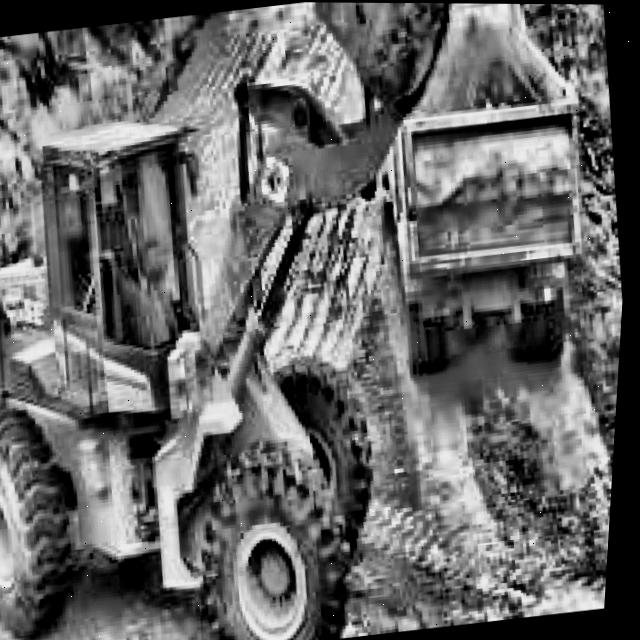buldozerpayloadergrader: (0, 0, 569, 640)
dump_truck: (351, 2, 606, 383)
